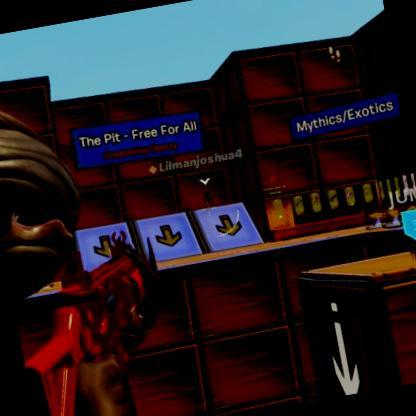person: (204, 190, 213, 206)
